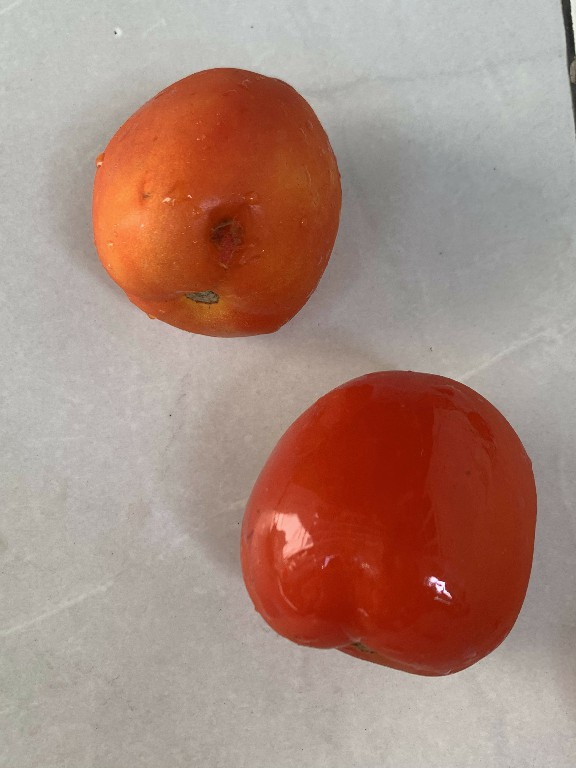NG: (77, 57, 350, 342)
OK: (226, 361, 542, 686)
